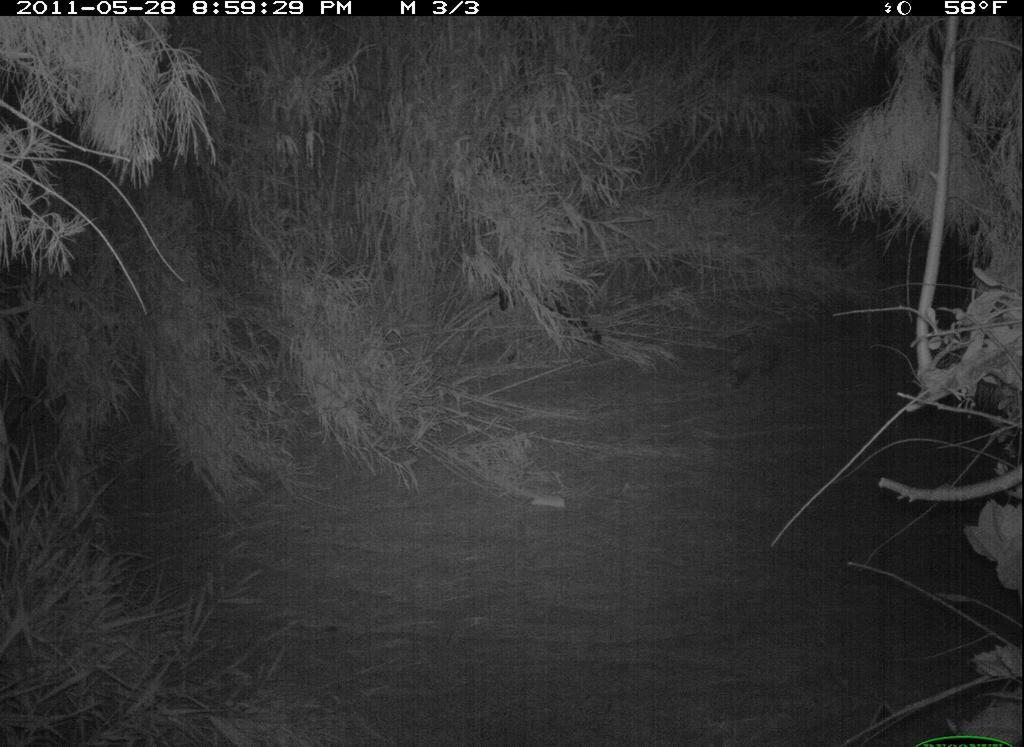opossum: (708, 324, 786, 392)
